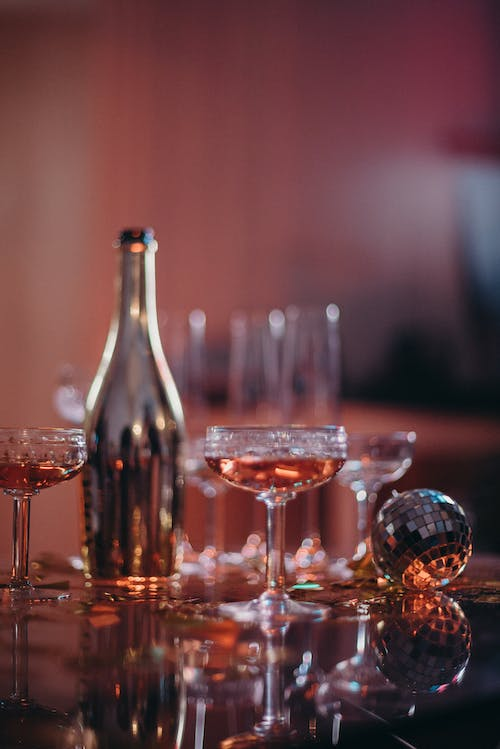alcohol: (78, 226, 188, 588), (202, 423, 348, 619), (0, 424, 88, 605)
